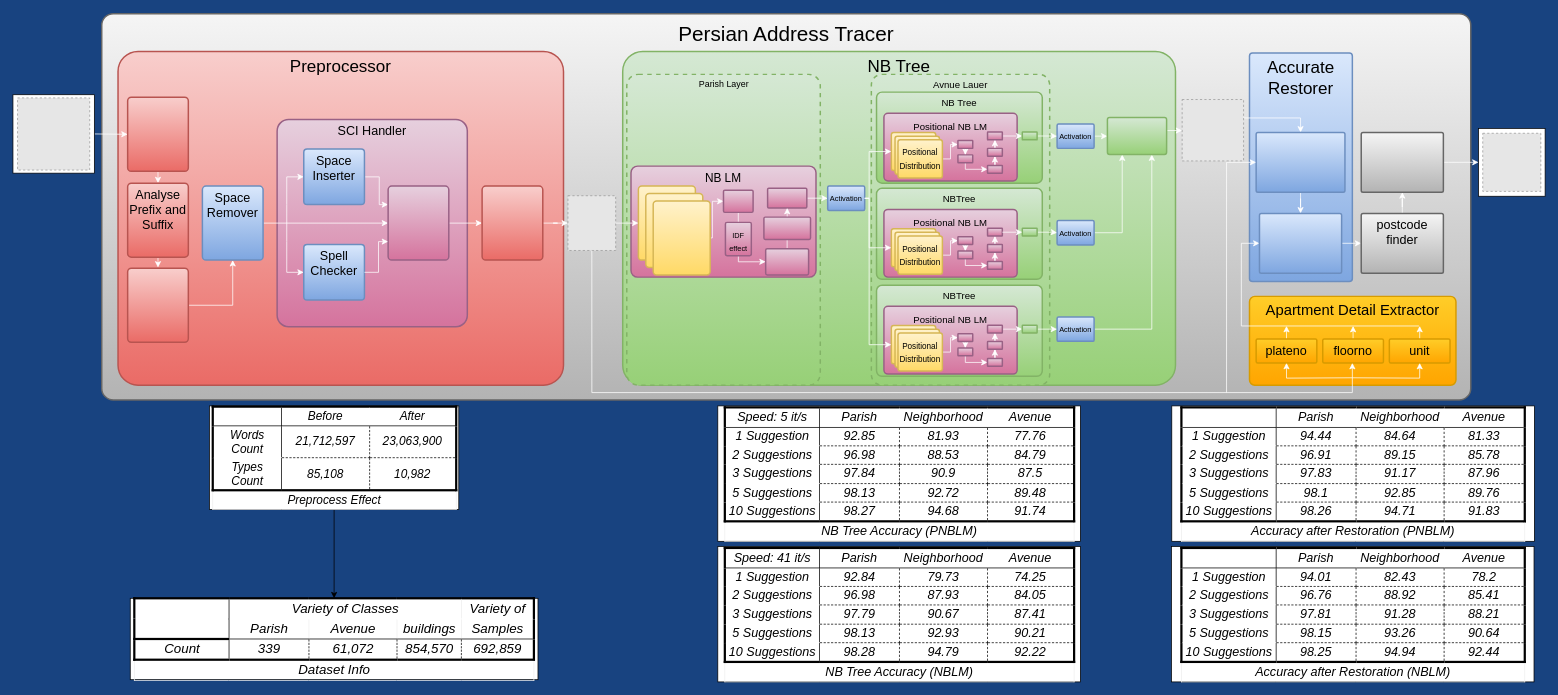
Some shapes in this 1558 by 695 pixel diagram are drawn without their labels. Grey dashed boxes stand in for pictures. Here are the shapes that lost their labels. From the top down, the centre of each, then its label:
(158,134): Cleaner
(1136,135): post_process (sort)
(1300,162): label condition (avenue name)
(1402,162): post process
(737,201): Smooth
(786,197): Normalize
(418,222): SCI Check (Choose)
(512,222): Preparing Output
(681,237): Bernoulli Distribution for each (Label, word)
(787,228): Bayes Rule
(787,261): Markov Assumption
(1300,243): plateno condition
(158,305): Extract Short Names
